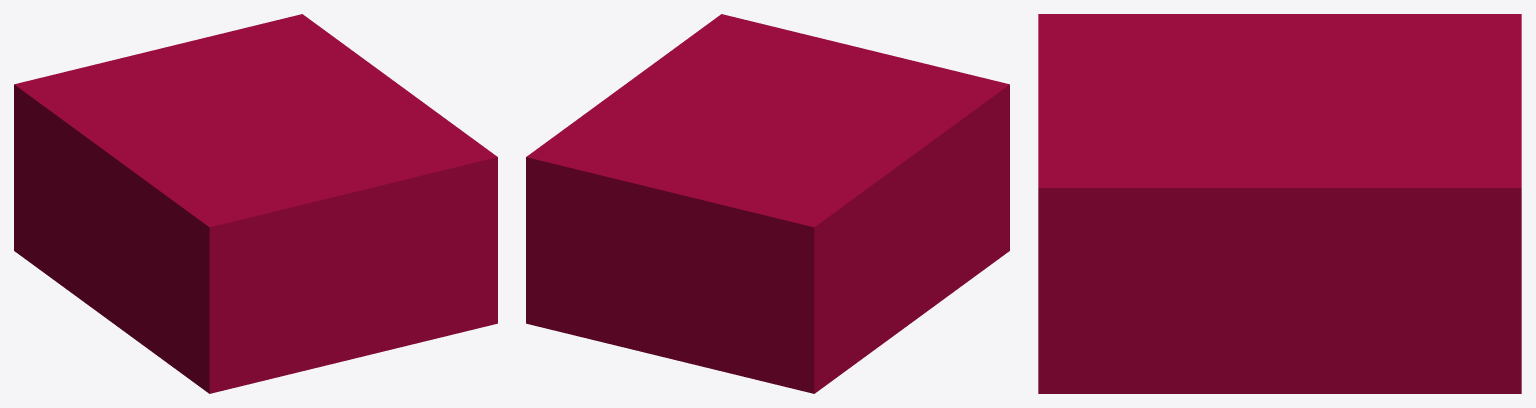
The model's file is Building5.fbx.
3 renders of one model, left to right at view 1: azimuth 30°, elevation 25°; view 2: azimuth 150°, elevation 25°; view 3: azimuth 270°, elevation 25°, orthographic. The views are drawn at different scales.
Visible parts, largest first — view 1: Building5; view 2: Building5; view 3: Building5.
Part boxes in pixels (<box>): Building5: <box>14,14,497,393</box>; Building5: <box>526,14,1009,393</box>; Building5: <box>1038,14,1521,393</box>.
Bounding box in the file's own units: 4529 × 2500 × 5318.
